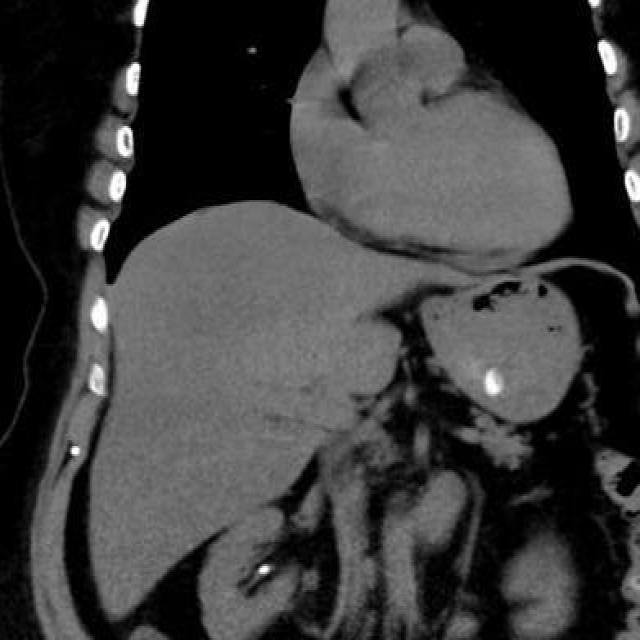Tas_Var: (249, 560, 278, 578)
